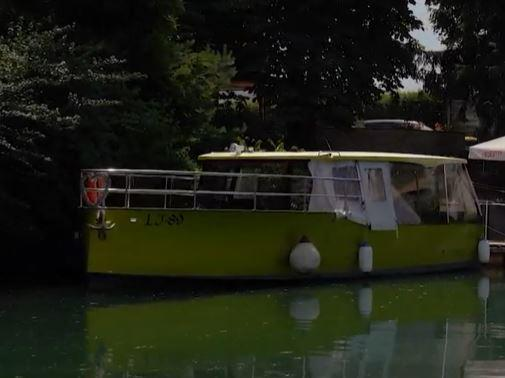Ship: (78, 141, 488, 281)
